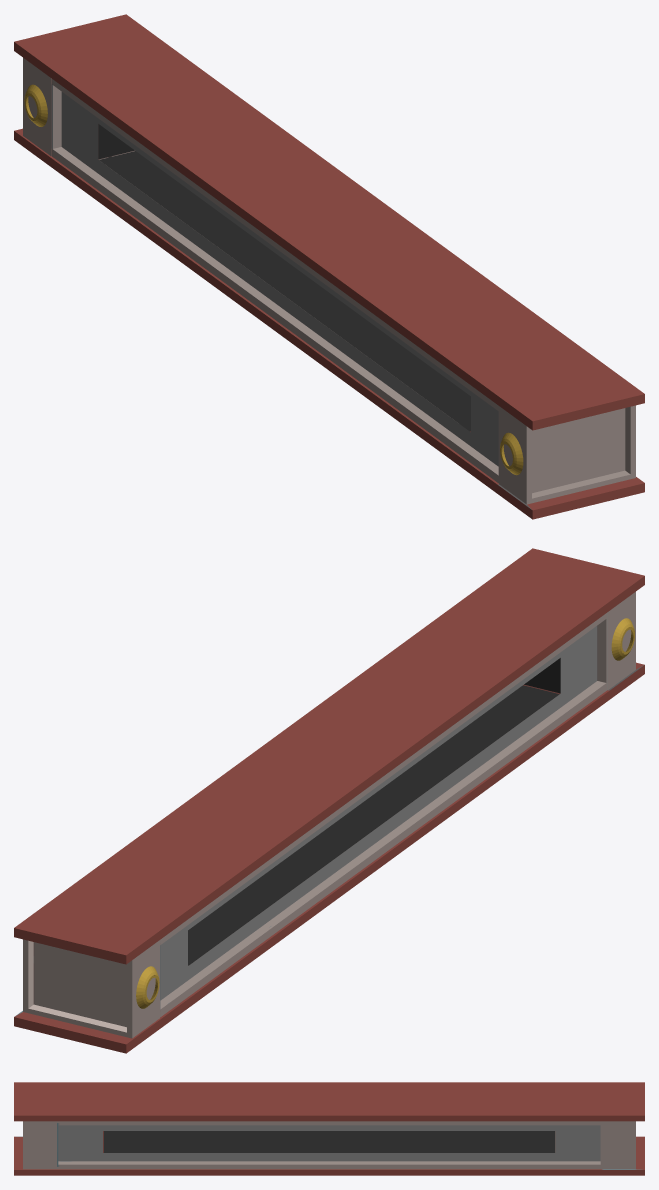
The model's file is girdir 4m #1.fbx.
3 renders of one model, top to bottom at view 1: azimuth 30°, elevation 25°; view 2: azimuth 150°, elevation 25°; view 3: azimuth 270°, elevation 25°, orthographic. The views are drawn at different scales.
Parts seen in each view (by area): view 1: Cube, Circle; view 2: Cube, Circle; view 3: Cube.
Part boxes in pixels (x1,y1,x2,y2): Cube: [14, 14, 644, 519]; Circle: [24, 84, 523, 475]; Cube: [14, 548, 644, 1053]; Circle: [136, 618, 634, 1008]; Cube: [14, 1082, 644, 1175].
Bounding box in the file's own units: 0.5186 × 0.418 × 4.
2 materials, 2 textured.
